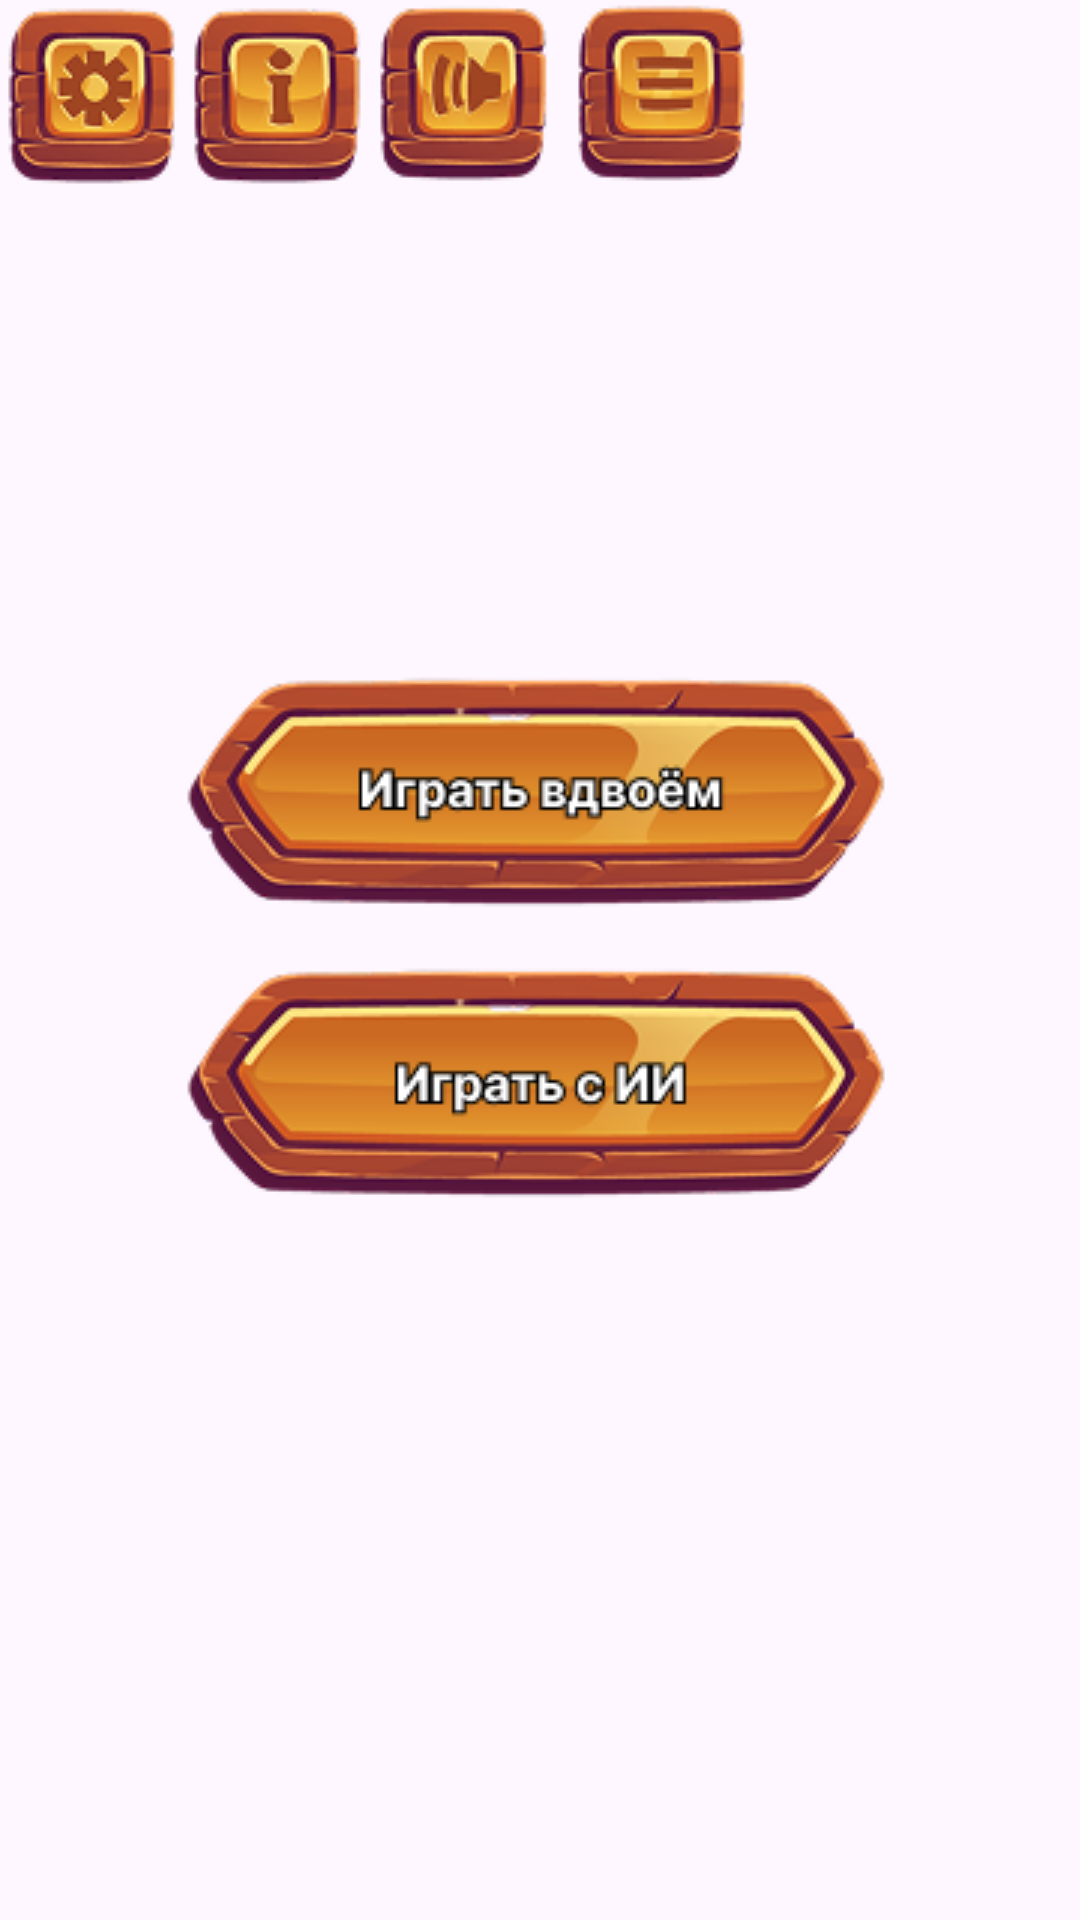

Where icons sit on this 1080 x 1920 app screen, as detection(x1, y1, x2, y2):
topmenu info: detection(194, 9, 361, 184)
topmenu set: detection(8, 9, 175, 184)
topmenu sound on: detection(380, 8, 547, 181)
topmenu statistic: detection(578, 6, 745, 181)
